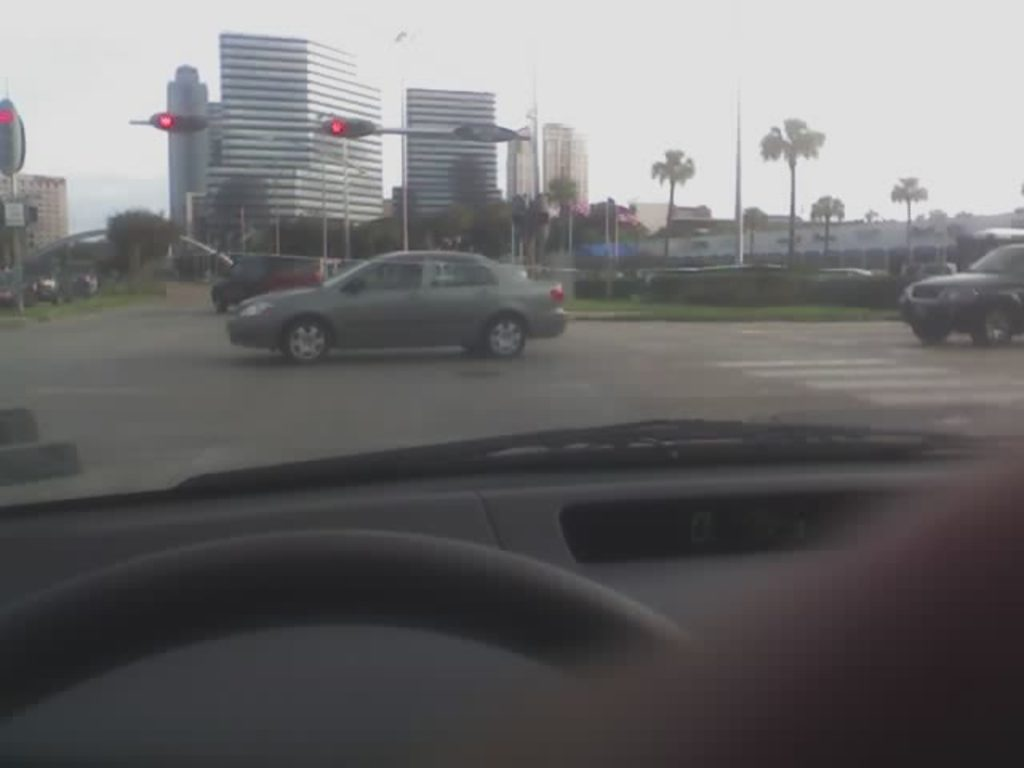Car: (0, 0, 1022, 766), (225, 249, 569, 360), (897, 241, 1022, 340), (211, 257, 323, 316)
